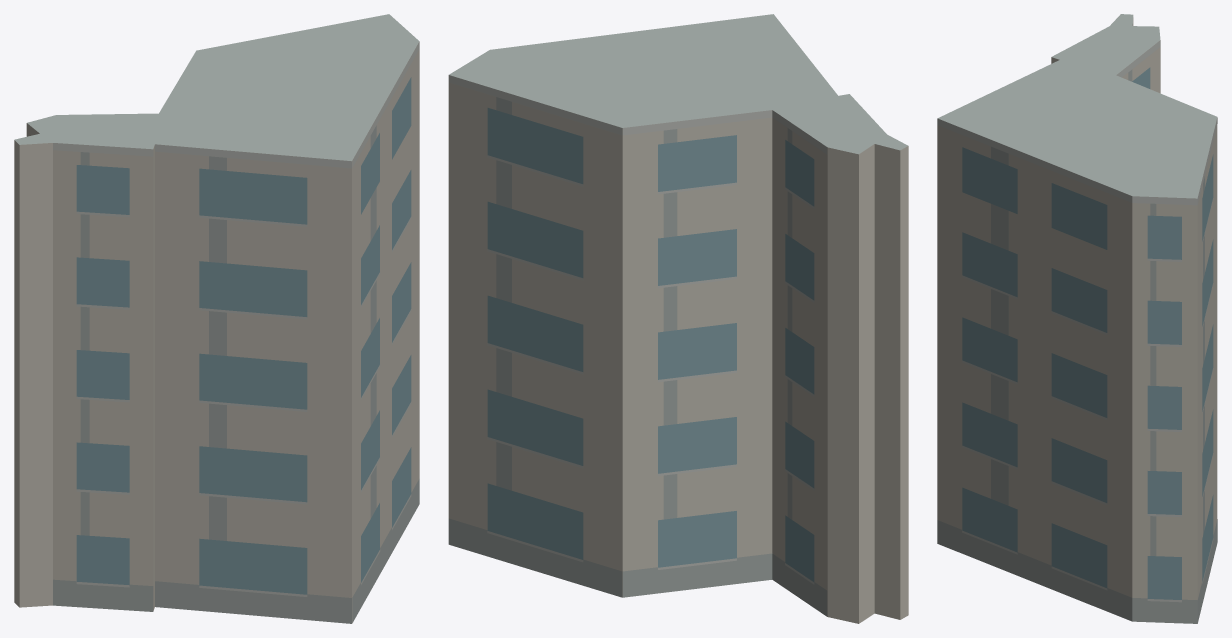
File: survey-upis-32788323.glb
3 views of the same model, side by side, from view 1: azimuth 30°, elevation 25°; view 2: azimuth 150°, elevation 25°; view 3: azimuth 270°, elevation 25° (orthographic). The views are drawn at different scales.
Parts seen in each view (by area): view 1: survey-upis-32788323.tmp; view 2: survey-upis-32788323.tmp; view 3: survey-upis-32788323.tmp.
Boxes of the visible parts, x1=… form: survey-upis-32788323.tmp: x1=14, y1=14, x2=419, y2=623; survey-upis-32788323.tmp: x1=448, y1=14, x2=908, y2=623; survey-upis-32788323.tmp: x1=937, y1=14, x2=1217, y2=623.
Size of the model in its own units: 14.2 by 15.25 by 9.11.
